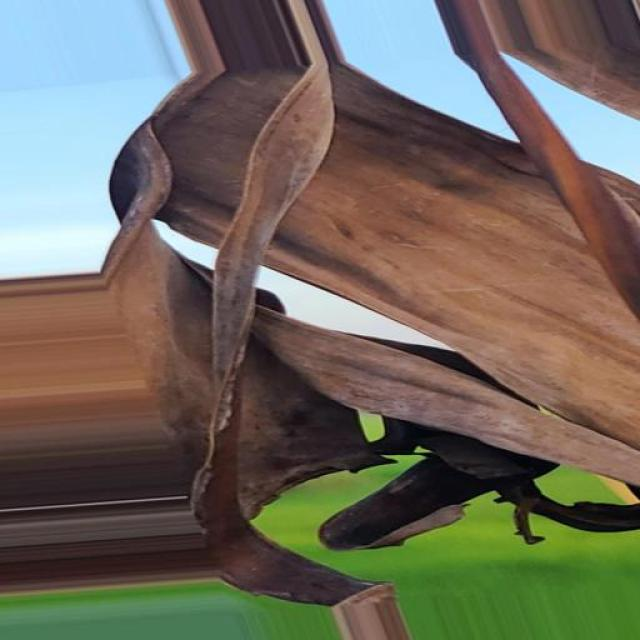Bract_mosaic_virus: (107, 52, 640, 591)
